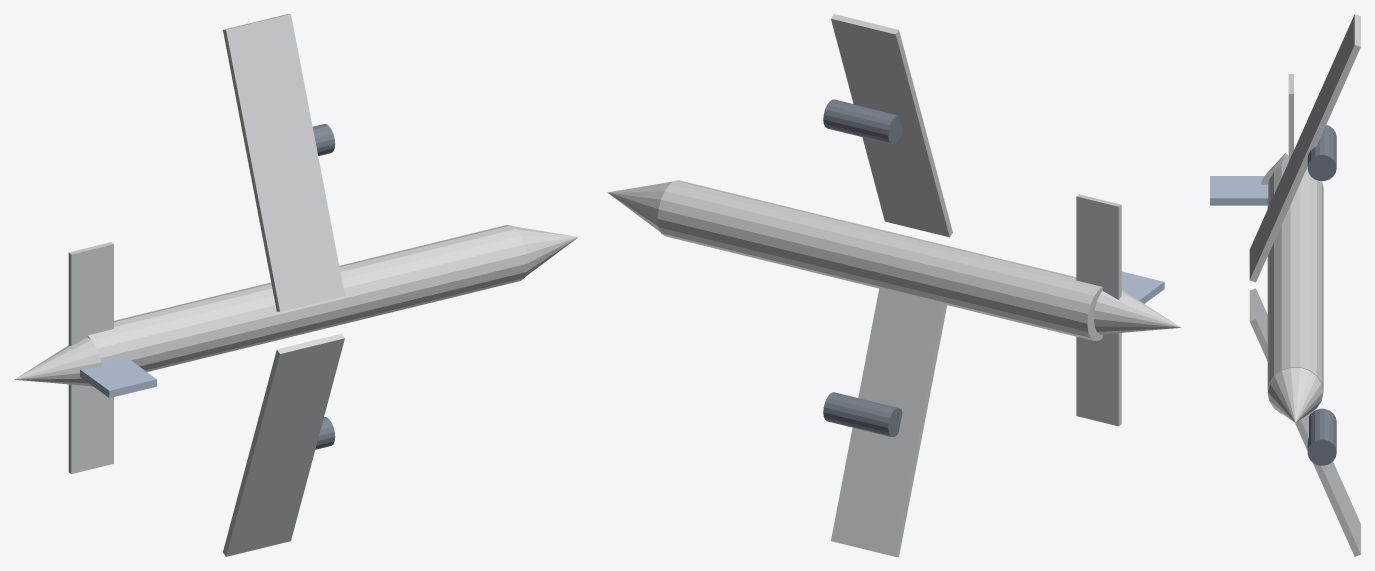
The model's file is wide2.glb.
The picture shows the model from 3 angles, left to right: view 1: azimuth 30°, elevation 25°; view 2: azimuth 150°, elevation 25°; view 3: azimuth 270°, elevation 25°; orthographic projection. The views are drawn at different scales.
Visible parts, largest first — view 1: body, fin, engines; view 2: body, engines, fin; view 3: body, engines, fin.
Boxes of the visible parts, box(x1,y1,x2,y2) form: body: box(15, 14, 578, 556); fin: box(80, 357, 156, 397); engines: box(312, 124, 335, 449); body: box(607, 14, 1181, 556); engines: box(823, 99, 902, 437); fin: box(1121, 271, 1164, 303); body: box(1249, 14, 1360, 556); engines: box(1307, 125, 1336, 465); fin: box(1210, 176, 1268, 205).
Bounding box in the file's own units: 68.4 × 60.49 × 16.15.
